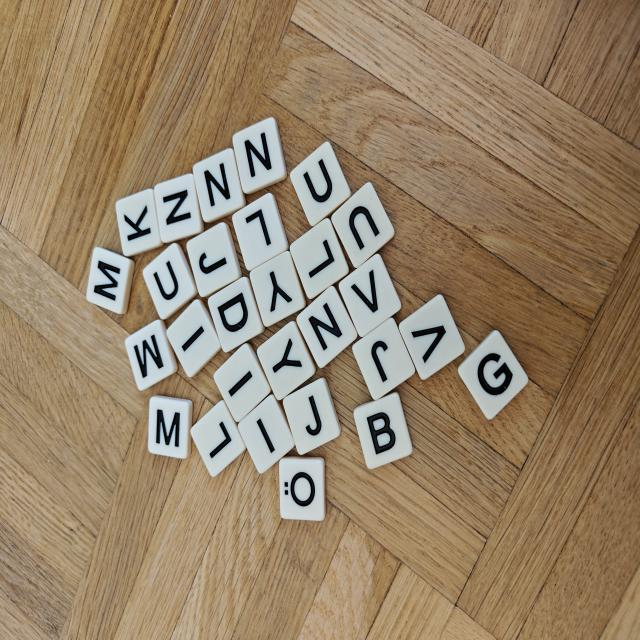b: (354, 392, 412, 468)
d: (208, 277, 264, 352)
g: (458, 330, 528, 419)
i: (214, 343, 271, 423), (239, 394, 294, 473), (167, 300, 220, 377)
j: (352, 318, 415, 400), (283, 378, 340, 455), (187, 222, 241, 297)
k: (116, 189, 162, 256)
l: (290, 218, 348, 298), (232, 193, 288, 271), (190, 400, 246, 477)
m: (125, 320, 178, 390), (86, 248, 135, 313), (148, 396, 192, 459)
n: (297, 286, 357, 368), (233, 117, 287, 194), (192, 148, 246, 222), (154, 173, 204, 243)
o_dot: (279, 457, 325, 520)
u: (331, 182, 394, 268), (290, 142, 351, 226), (143, 243, 197, 319)
v: (398, 295, 465, 380), (339, 254, 401, 337)
y: (257, 321, 315, 400), (250, 251, 306, 326)
